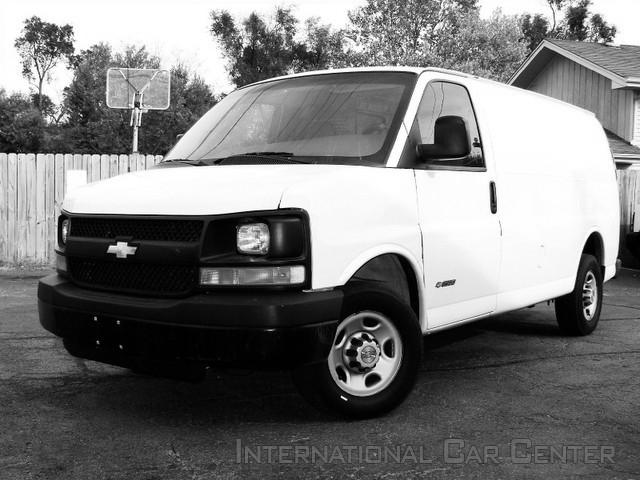car: (36, 67, 620, 419)
